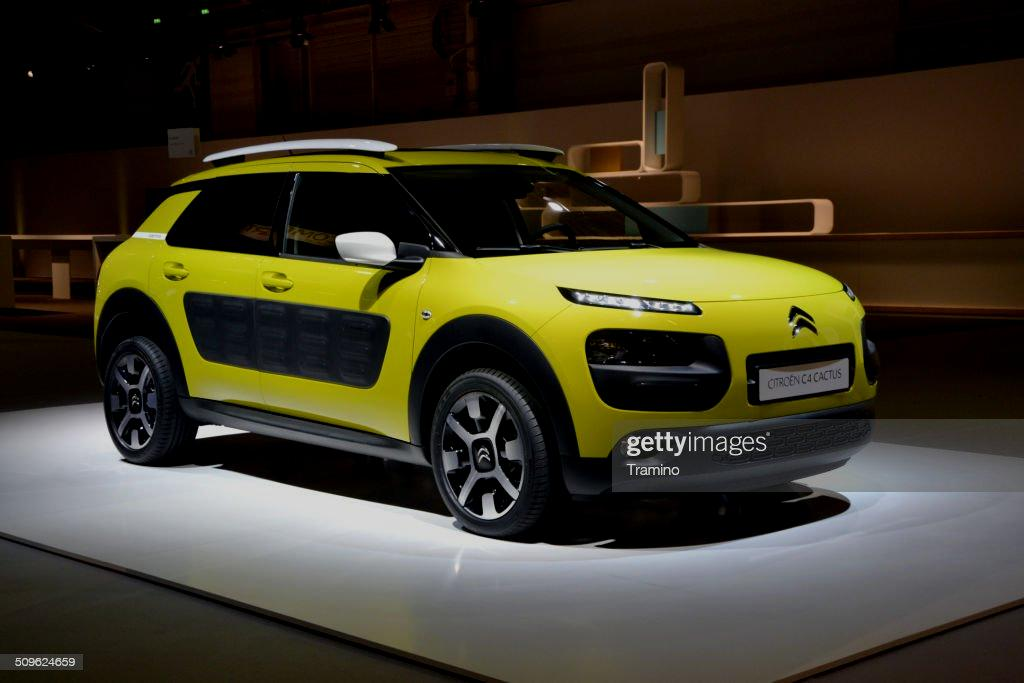Citroen: (773, 292, 834, 351)
